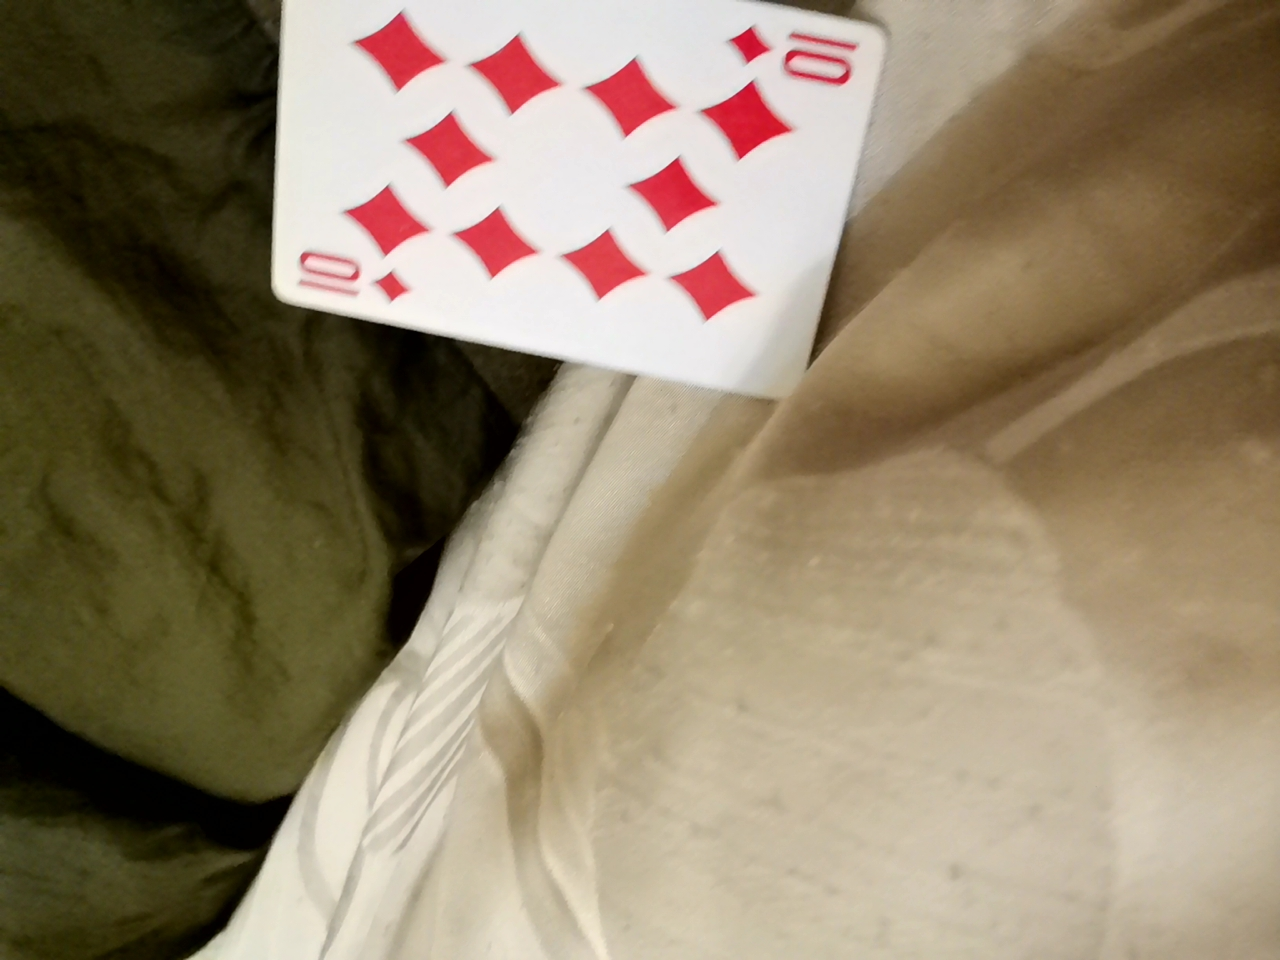fk 10: (187, 26, 794, 459)
